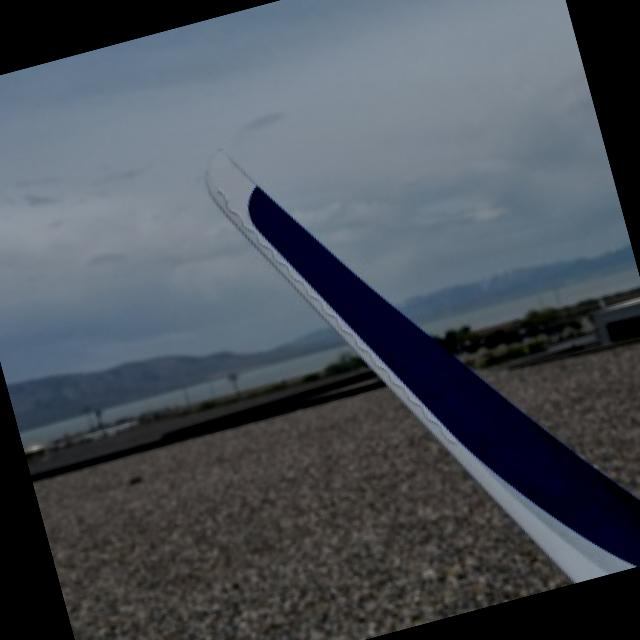healthy: (207, 150, 640, 580)
